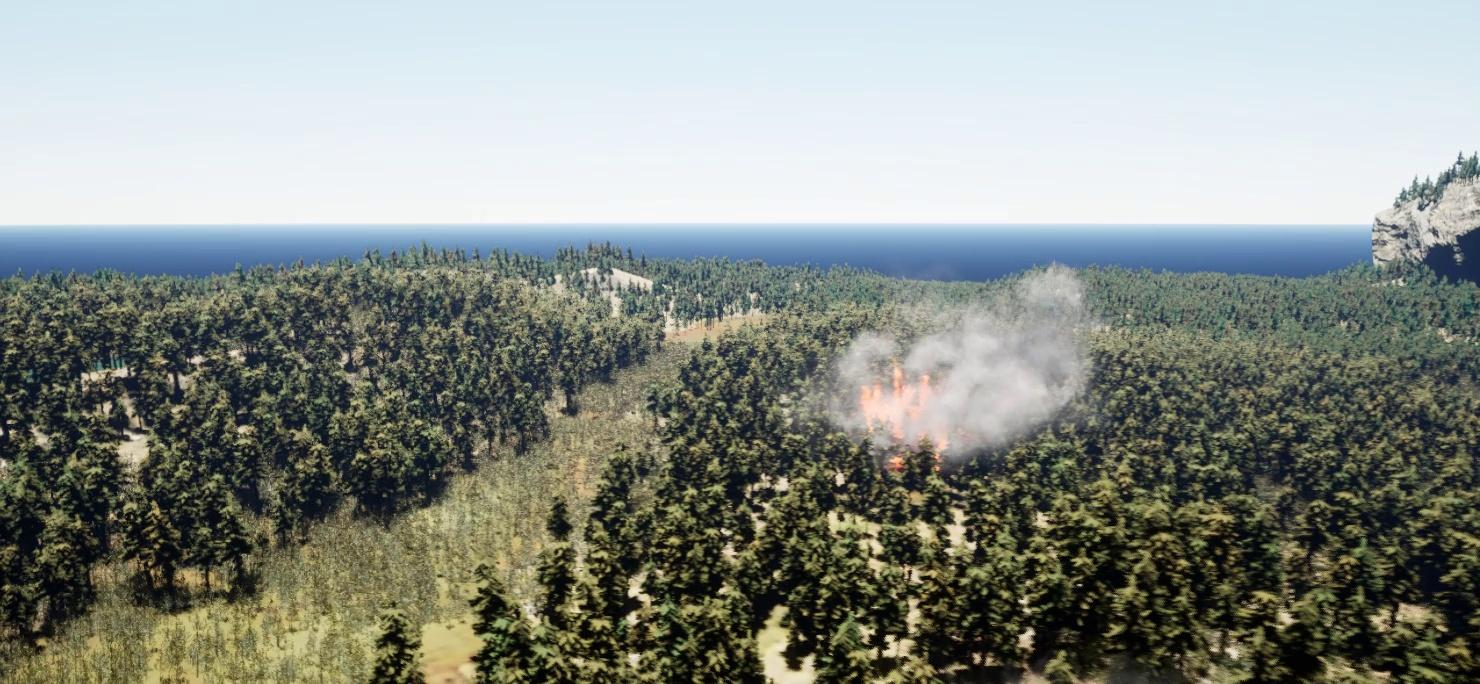fire: (855, 358, 950, 483)
smoke: (791, 258, 1094, 463)
